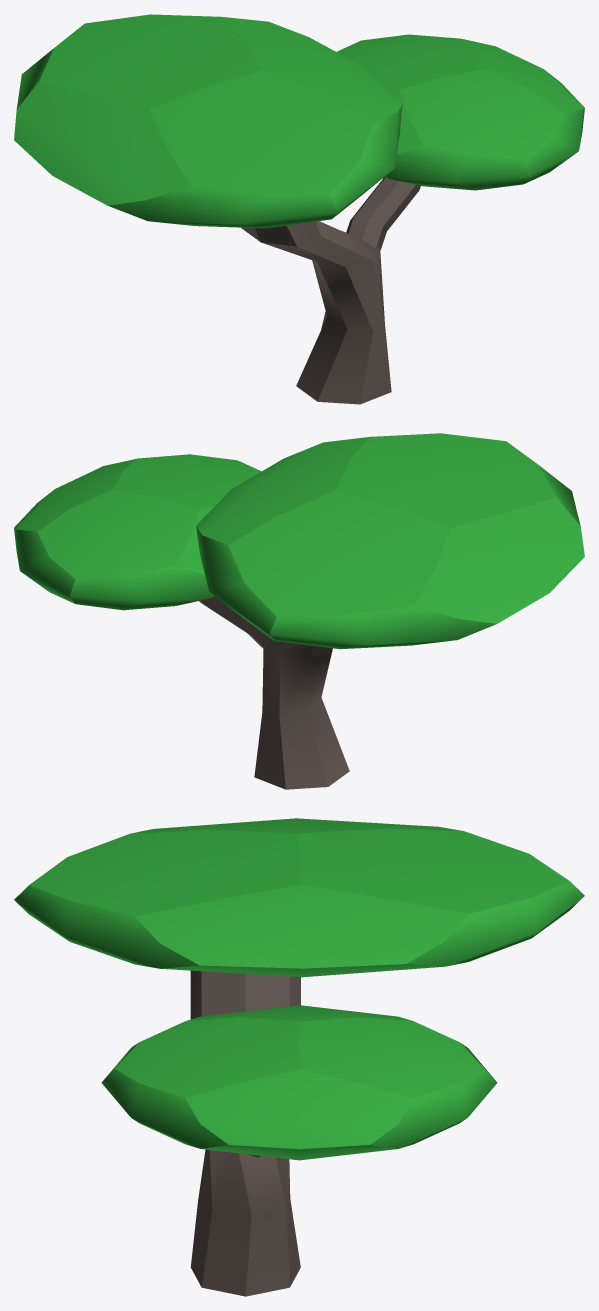
Rendered from tree2.fbx.
3 views of the same model, one above another, from view 1: azimuth 30°, elevation 25°; view 2: azimuth 150°, elevation 25°; view 3: azimuth 270°, elevation 25° (orthographic). The views are drawn at different scales.
Parts seen in each view (by area): view 1: pPlatonic3; view 2: pPlatonic3; view 3: pPlatonic3.
Part boxes in pixels (x1=…): pPlatonic3: x1=14, y1=14, x2=584, y2=404; pPlatonic3: x1=14, y1=433, x2=584, y2=789; pPlatonic3: x1=14, y1=818, x2=584, y2=1296.
Size of the model in its own units: 152 by 88.73 by 129.
